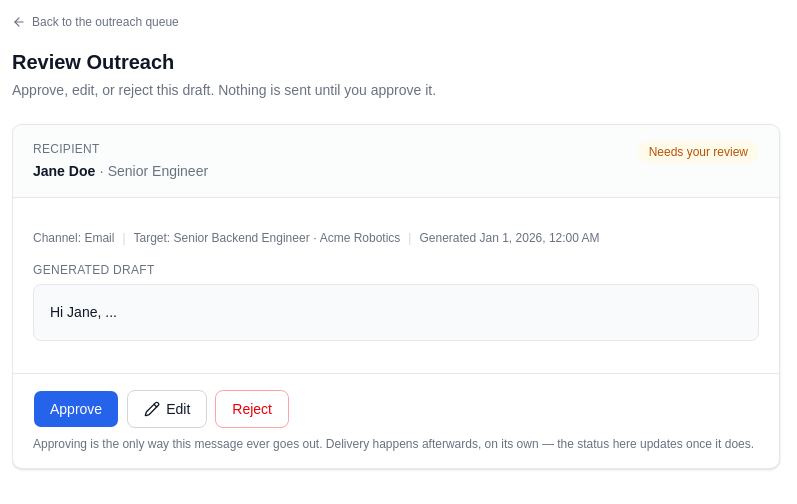
Test: OutreachReviewPage (deep link) › on a 409 approve conflict, refetches and displays the true current server state rather than any locally-assumed status
Click the button "Approve": point(76, 409) [33, 390, 119, 428]
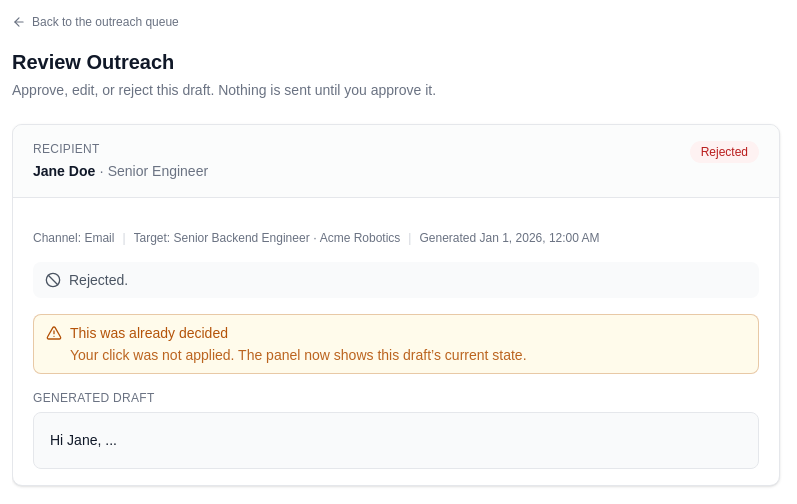
Check: the message shows "This was already decided", box [70, 325, 228, 341]
Check: the text "Rejected." is shown, box [69, 270, 128, 290]
